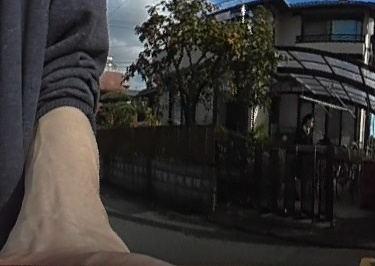person: (297, 112, 316, 203)
